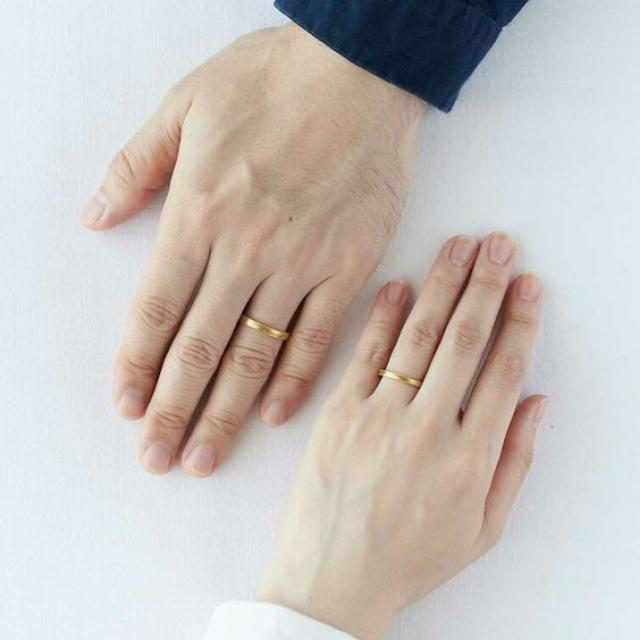Fingernail: (185, 446, 217, 477), (142, 442, 172, 475), (117, 390, 145, 421), (82, 192, 107, 226), (450, 236, 476, 267), (531, 398, 550, 439), (490, 233, 514, 264), (518, 274, 543, 300), (262, 400, 287, 424), (383, 281, 405, 307)
